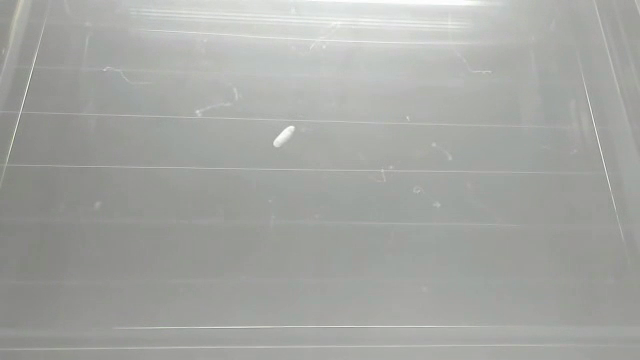alpha: (271, 124, 299, 150)
